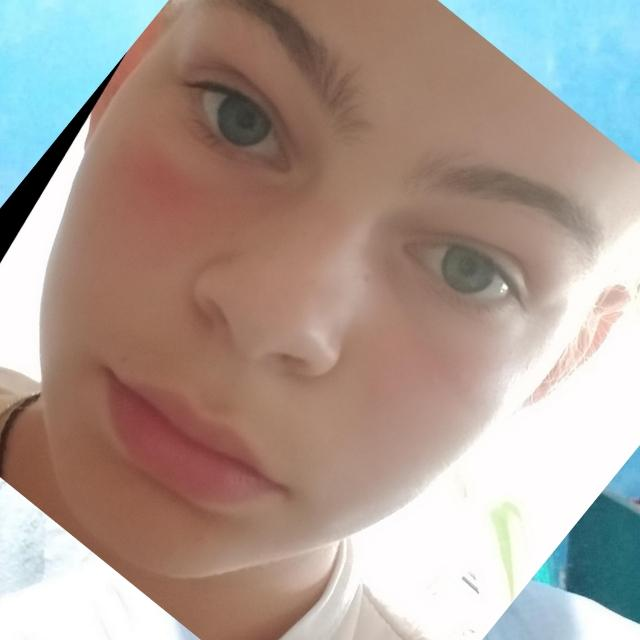Natural: (81, 30, 620, 625)
